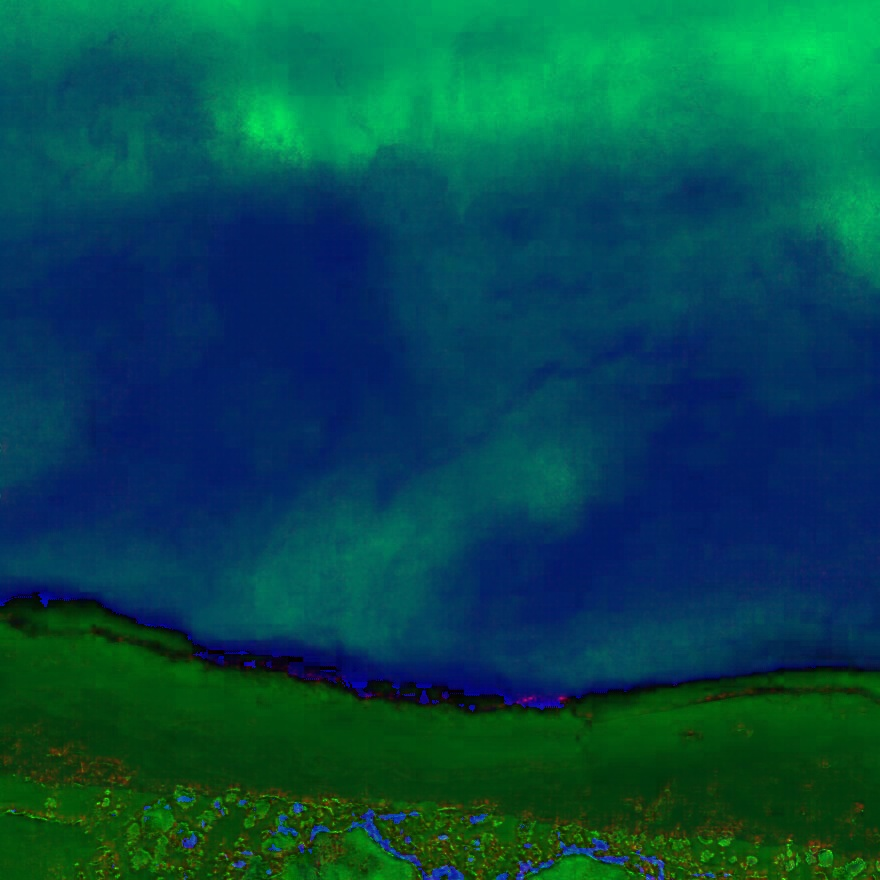rip_current: (244, 267, 709, 666)
